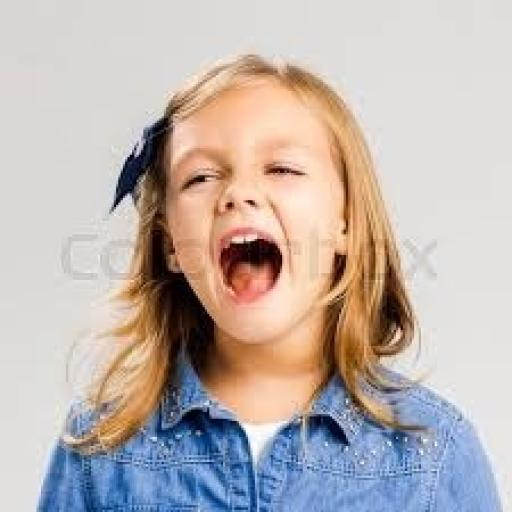laughing: (22, 48, 510, 510)
